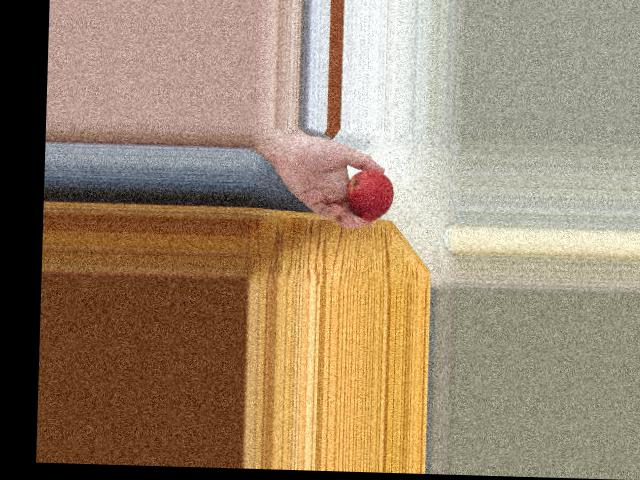apple: (339, 163, 395, 221)
